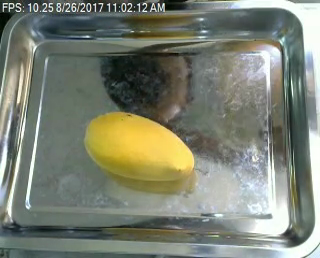Mango: (87, 107, 199, 190)
